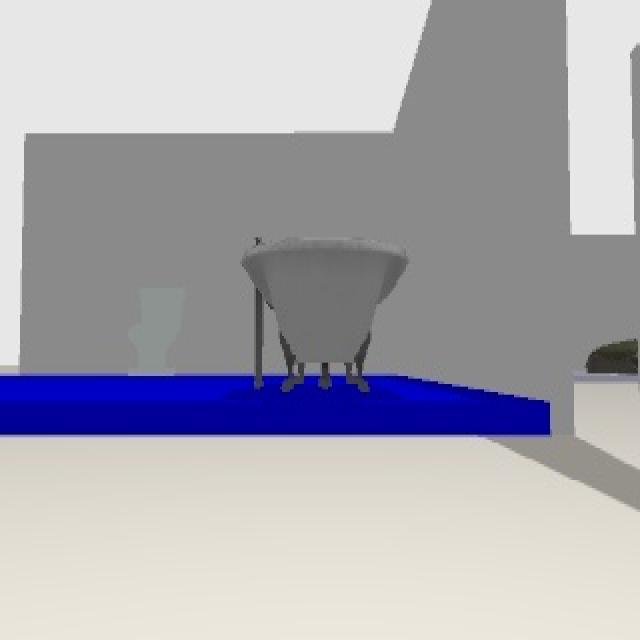bathtub: (240, 237, 410, 389)
